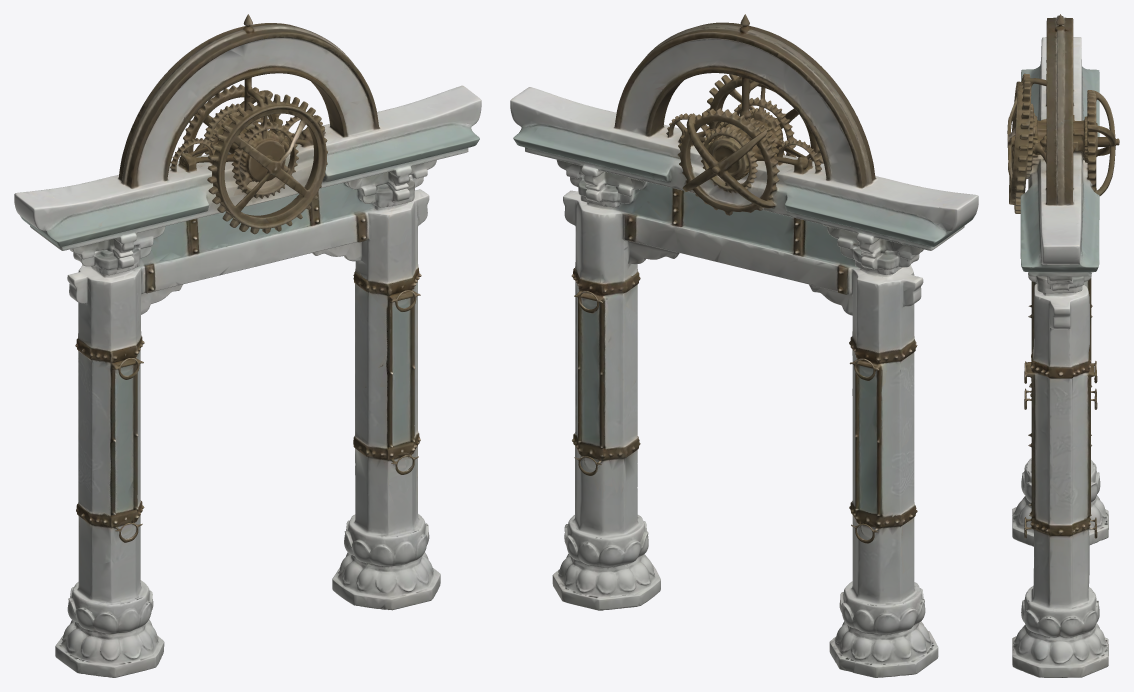
The model's file is ascension_gate_rodin.glb.
3 renders of one model, left to right at view 1: azimuth 30°, elevation 25°; view 2: azimuth 150°, elevation 25°; view 3: azimuth 270°, elevation 25°, orthographic. The views are drawn at different scales.
Visible parts, largest first — view 1: SM_AscensionGateRodin; view 2: SM_AscensionGateRodin; view 3: SM_AscensionGateRodin.
Boxes of the visible parts, x1,y1,x2,y2 form: SM_AscensionGateRodin: [14, 14, 481, 677]; SM_AscensionGateRodin: [510, 14, 978, 677]; SM_AscensionGateRodin: [1007, 14, 1119, 677].
Bounding box in the file's own units: 6.8 × 8.79 × 1.54.
Materials: 1 (1 with a texture image).
